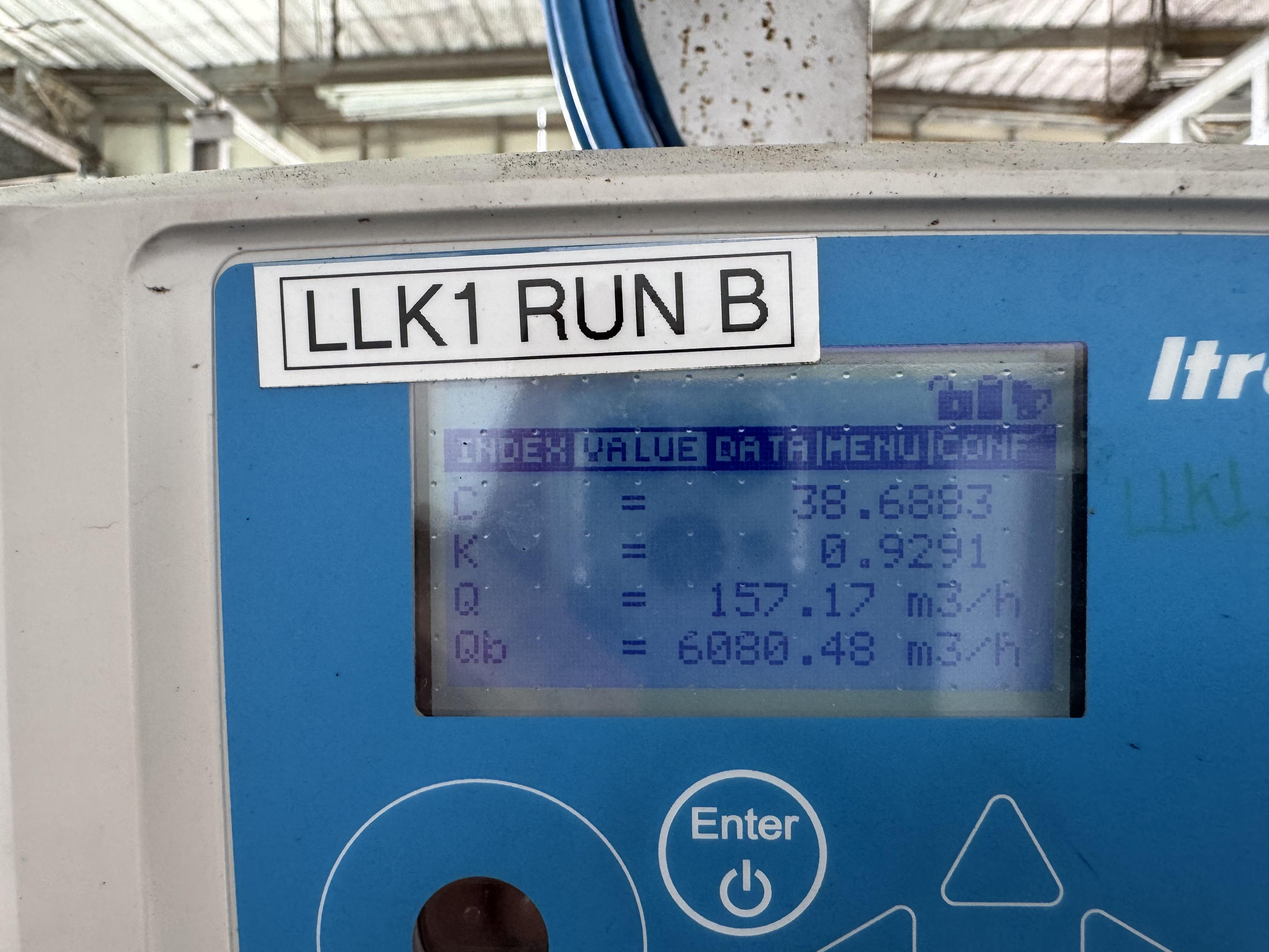digital_screen: (410, 341, 1084, 717)
